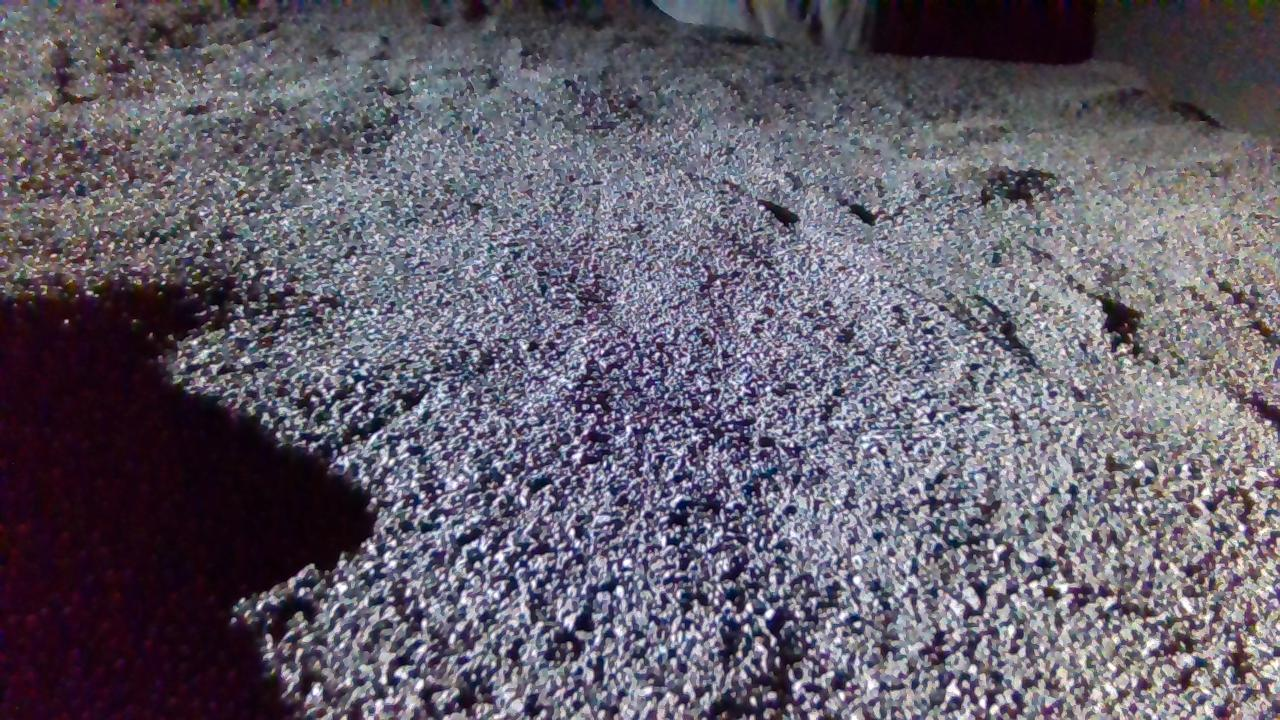rock: (655, 0, 874, 48)
